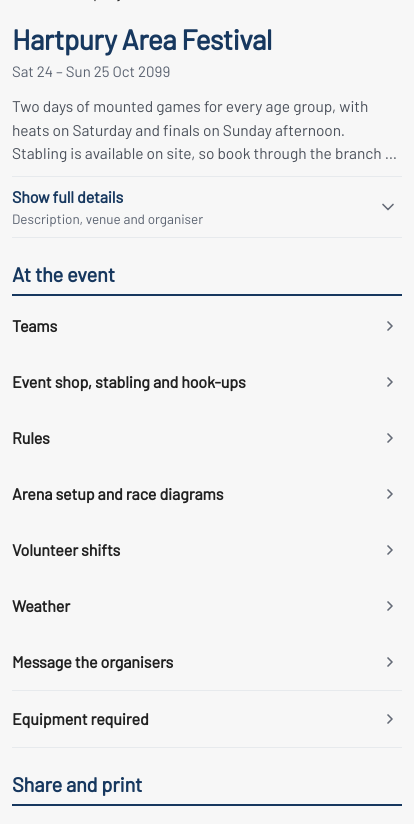
Test: DetailsTab › says so when the equipment list cannot be loaded
Click the button "Equipment required" at (80, 719), box [12,692,402,748]
(page scrolled)
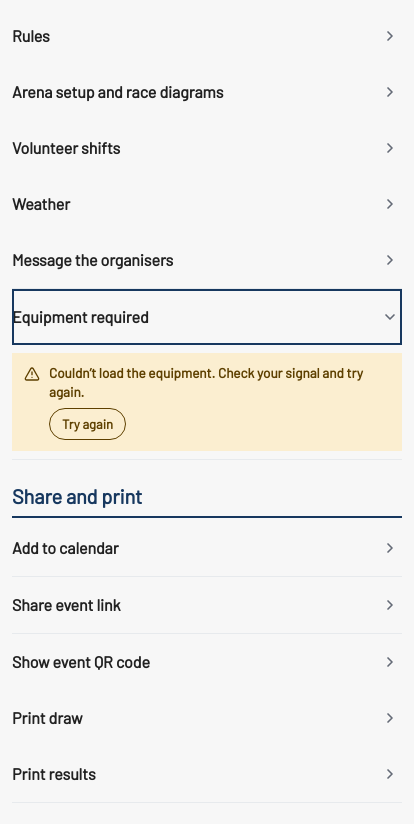
Expected: the message shows "Couldn’t load the equipment. Check your signal and try again.", [49,364,363,400]
